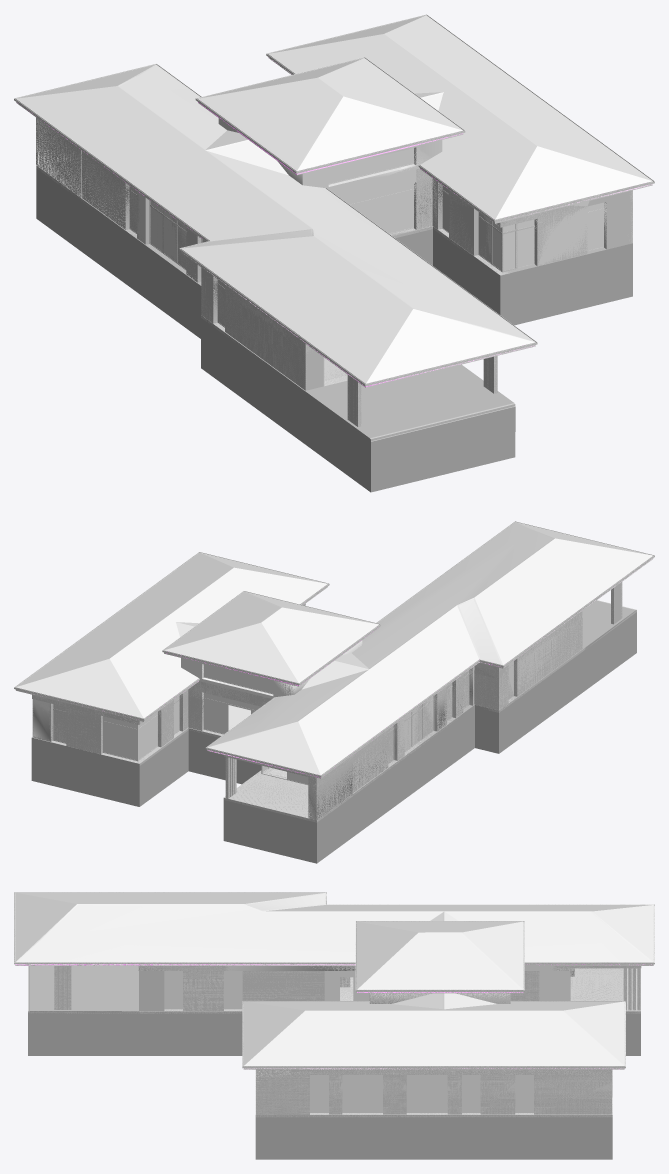
File: mk4villa.dae
3 views of the same model, one above another, from view 1: azimuth 30°, elevation 25°; view 2: azimuth 150°, elevation 25°; view 3: azimuth 270°, elevation 25° (orthographic). The views are drawn at different scales.
Visible parts, largest first — view 1: hilltopvilla_a500, hilltopvilla_a400, Colmesh-1, hilltopvilla_a100; view 2: hilltopvilla_a500, hilltopvilla_a400, Colmesh-1, hilltopvilla_a100; view 3: hilltopvilla_a500, hilltopvilla_a400, Colmesh-1, hilltopvilla_a100.
Boxes of the visible parts, x1,y1,x2,y2 form: hilltopvilla_a500: (14, 14, 654, 492); hilltopvilla_a400: (14, 15, 654, 491); Colmesh-1: (36, 118, 632, 441); hilltopvilla_a100: (17, 17, 654, 490); hilltopvilla_a500: (14, 521, 654, 863); hilltopvilla_a400: (14, 521, 654, 863); Colmesh-1: (32, 582, 636, 822); hilltopvilla_a100: (16, 523, 651, 862); hilltopvilla_a500: (14, 892, 654, 1159); hilltopvilla_a400: (14, 892, 654, 1159); Colmesh-1: (28, 966, 641, 1117); hilltopvilla_a100: (14, 913, 654, 1159).
Size of the model in its own units: 24.26 by 37.64 by 9.6.
